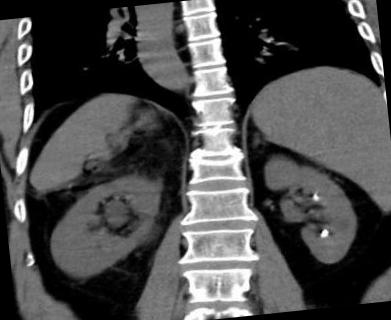Tas_Var: (316, 227, 330, 239), (308, 192, 320, 201)
